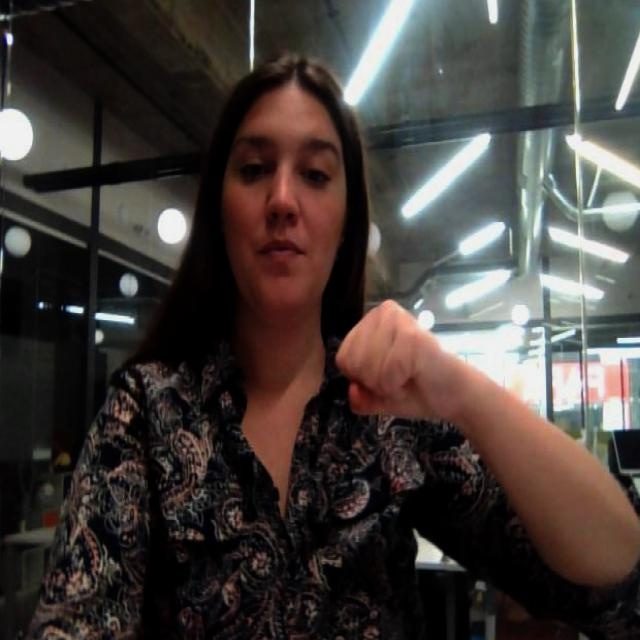Rock: (335, 299, 465, 429)
